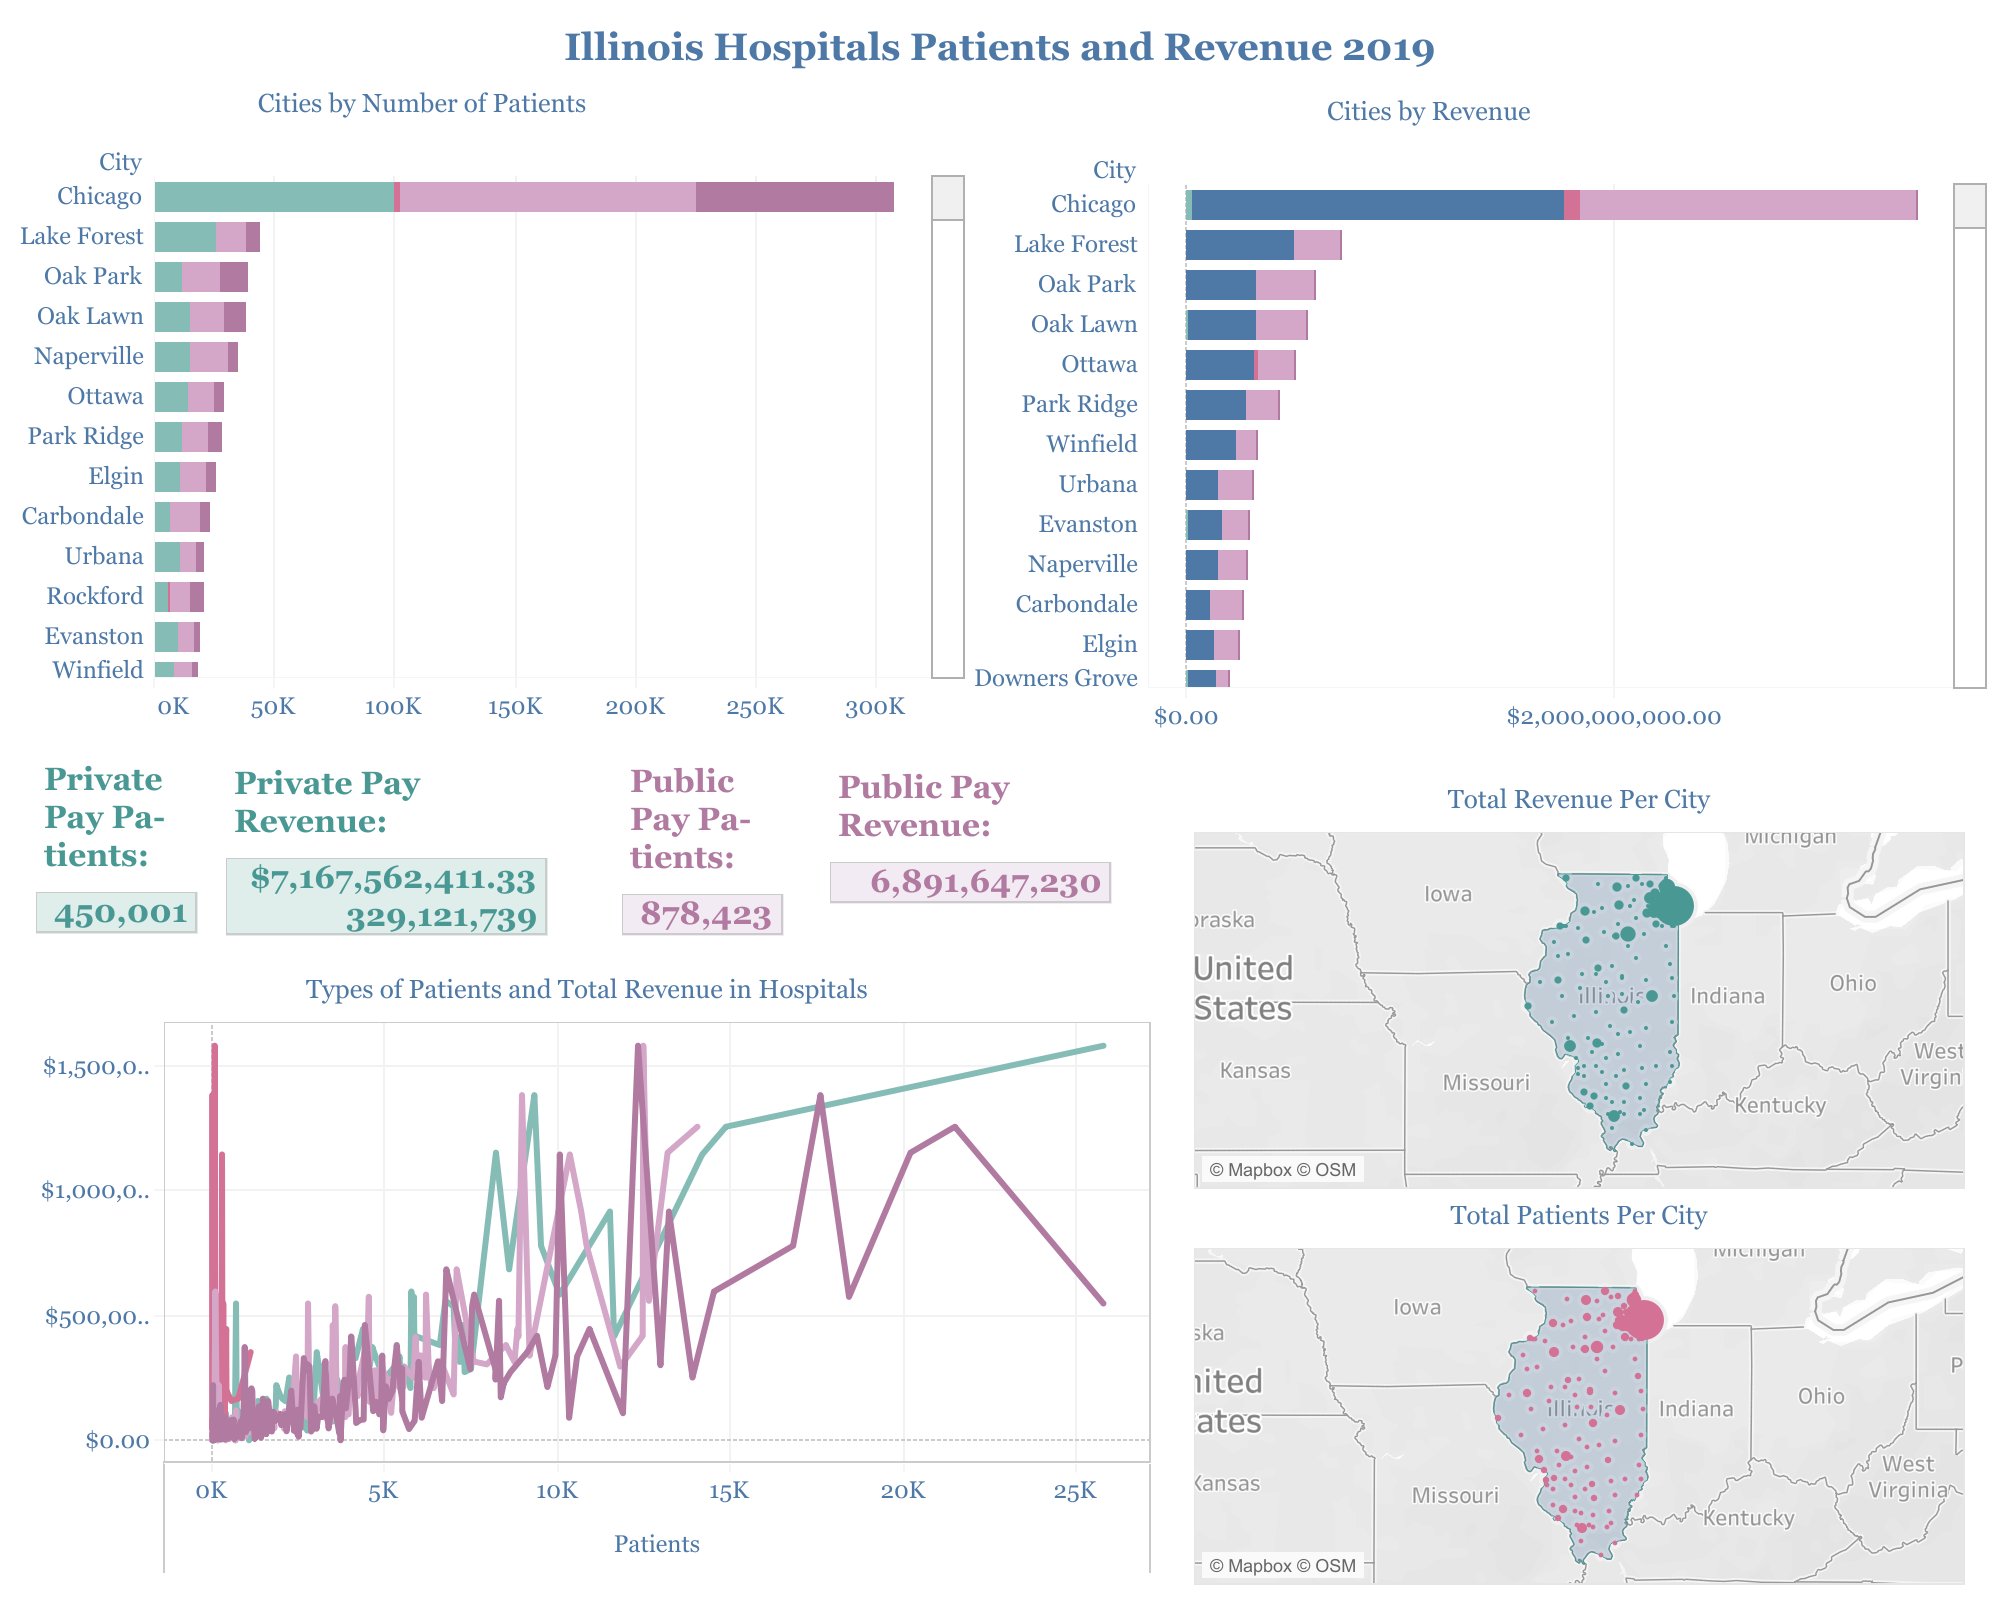

What the dashboard file says about the page in this screenshot:
{"tool":"tableau","page":{"name":"Illinois Hospital Revenue and Patients","canvas":[1000,800],"ordinal":0},"visuals":[{"type":"title","box":[8,8,984,31]},{"type":"worksheet","title":"Cities by Revenue","mark":"Bar","rows":["City"],"box":[452,42,542,332]},{"type":"text","box":[436,255,100,30]},{"type":"worksheet","title":"Private Pay Patients","mark":"Automatic","box":[18,374,93,101]},{"type":"worksheet","title":"Public Pay Patients","mark":"Automatic","box":[311,375,112,98]},{"type":"worksheet","title":"Private Pay Revenue","mark":"Automatic","box":[113,376,175,108]},{"type":"worksheet","title":"Public Pay Revenue","mark":"Automatic","box":[415,378,333,183]},{"type":"worksheet","title":"Geographic Revenue Map","mark":"Multipolygon","box":[597,386,386,209]},{"type":"worksheet","title":"Patient Type vs Revenue","mark":"Line","rows":["Total Revenue"],"cols":["Medicaid Patients"],"box":[11,481,565,306]},{"type":"worksheet","title":"Geographic Patients Map","mark":"Multipolygon","box":[597,594,386,199]}]}

Visuals, with their boxes in screenshot pixels (x1, y1, x2, y2), scaled from the page's 1000x800 canvas onto the 2000x1600 screenshot:
title: bbox=[16, 16, 1984, 78]
"Cities by Revenue" worksheet (Bar marks): bbox=[904, 84, 1988, 748]
text: bbox=[872, 510, 1072, 570]
"Private Pay Patients" worksheet: bbox=[36, 748, 222, 950]
"Public Pay Patients" worksheet: bbox=[622, 750, 846, 946]
"Private Pay Revenue" worksheet: bbox=[226, 752, 576, 968]
"Public Pay Revenue" worksheet: bbox=[830, 756, 1496, 1122]
"Geographic Revenue Map" worksheet (Multipolygon marks): bbox=[1194, 772, 1966, 1190]
"Patient Type vs Revenue" worksheet (Line marks): bbox=[22, 962, 1152, 1574]
"Geographic Patients Map" worksheet (Multipolygon marks): bbox=[1194, 1188, 1966, 1586]
